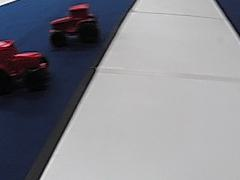Tracktor: (0, 36, 49, 90), (47, 1, 99, 46)
